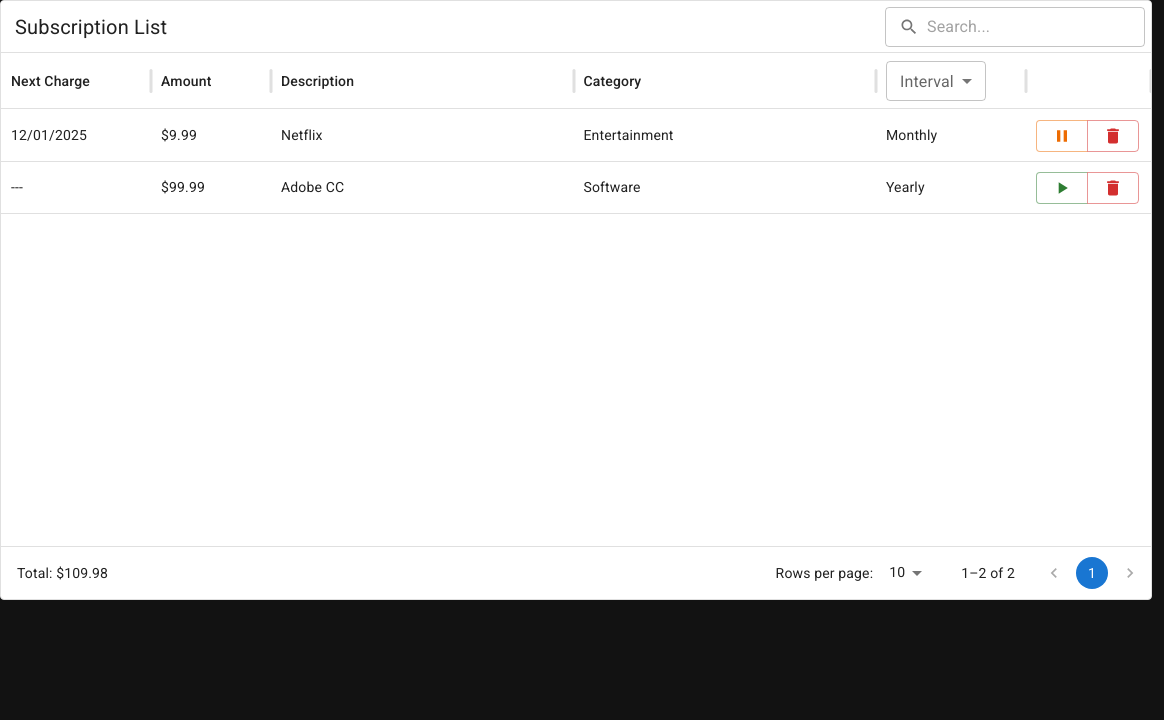
Test: Subscription List Component › Interval Filtering › Renders interval dropdown with correct options
Click the dropdown named "Interval". click: [936, 80]
box: [886,60,986,100]
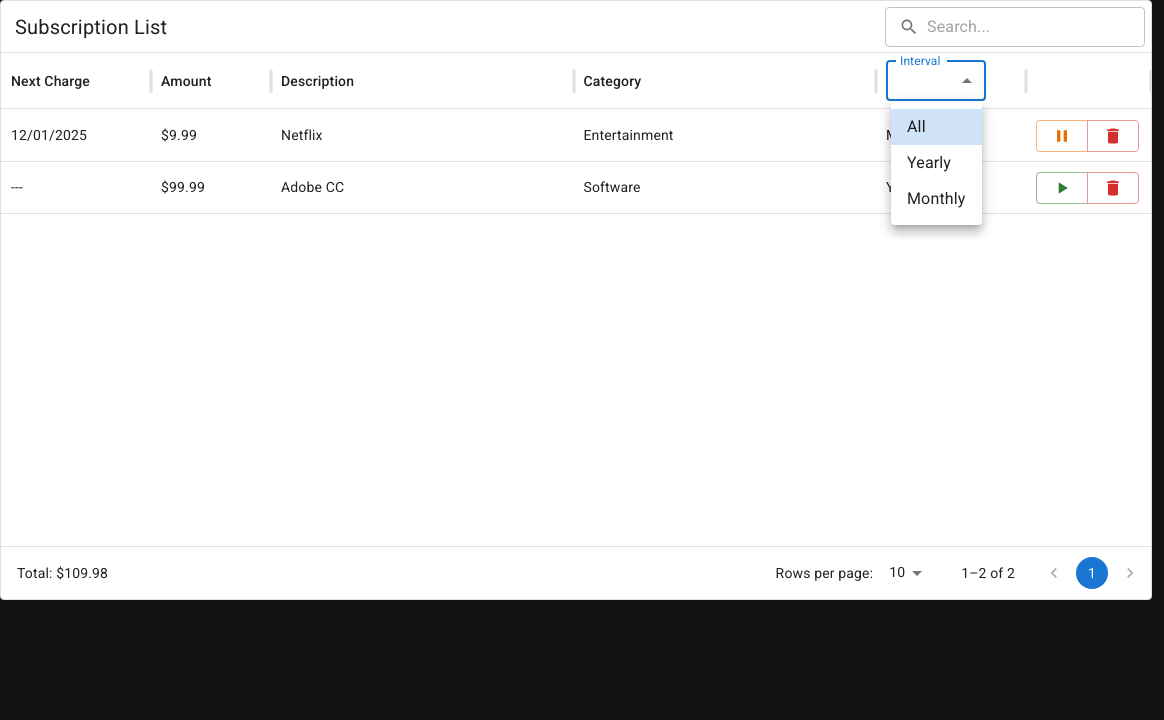
Check: the option "All" is shown, box [891,109,982,145]
Check: the option with test id "yearly" is shown, box [907,153,951,172]
Check: the option with test id "monthly" is shown, box [907,189,966,208]
